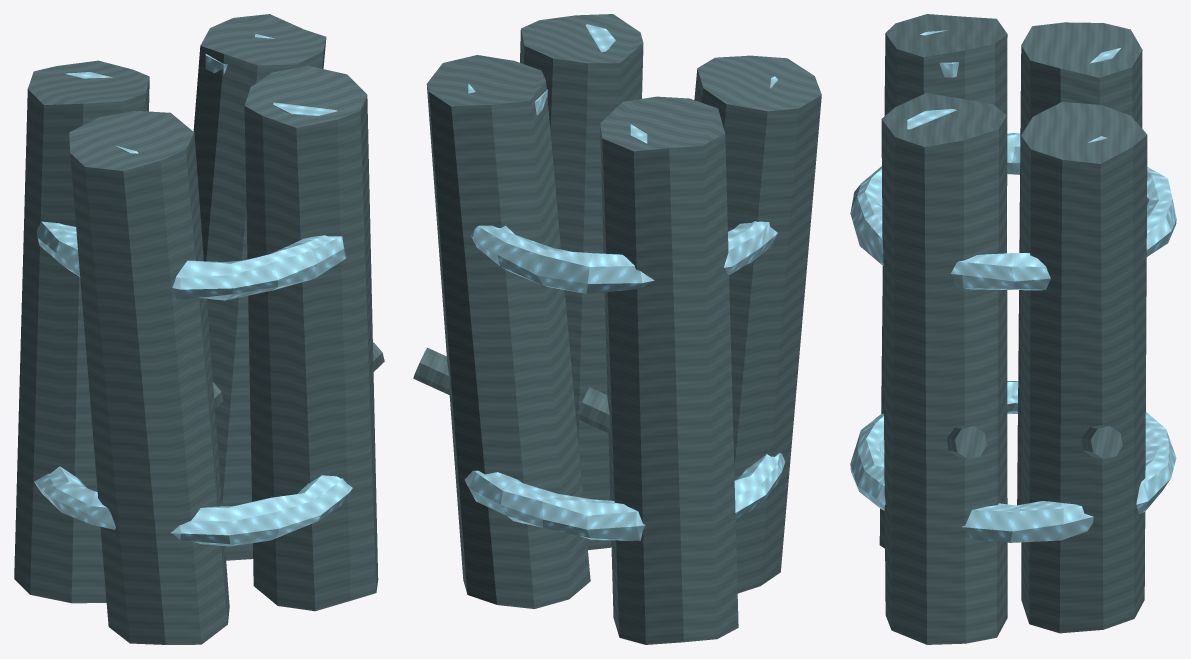
Rendered from underworld-resource-rimewood.glb.
3 views of the same model, side by side, from view 1: azimuth 30°, elevation 25°; view 2: azimuth 150°, elevation 25°; view 3: azimuth 270°, elevation 25° (orthographic).
Parts seen in each view (by area): view 1: member-0, member-1, member-2, member-3, binding-0, binding-1; view 2: member-2, member-3, member-0, member-1, binding-0, binding-1, branch-scar-3, branch-scar-2; view 3: member-1, member-3, member-2, member-0, binding-0, binding-1, branch-scar-3, branch-scar-1.
Boxes of the visible parts, x1,y1,x2,y2 form: member-0: (69,110,229,644); member-1: (244,65,378,611); member-2: (14,60,149,603); member-3: (193,14,326,560); binding-0: (34,466,352,546); binding-1: (36,221,345,300); member-2: (600,96,738,644); member-3: (426,55,590,608); member-0: (694,55,821,593); member-1: (520,14,643,550); binding-0: (464,453,785,540); binding-1: (471,221,777,293); branch-scar-3: (413,347,450,395); branch-scar-2: (575,387,610,433); member-1: (881,93,1007,644); member-3: (1021,102,1147,633); member-2: (1017,22,1142,505); member-0: (879,14,1007,548); binding-0: (850,381,1176,542); binding-1: (850,133,1176,290); branch-scar-3: (1081,424,1122,459); branch-scar-1: (947,424,986,459).
Size of the model in its own units: 0.2151 by 0.3287 by 0.1922.
Materials: 2 (2 with a texture image).
